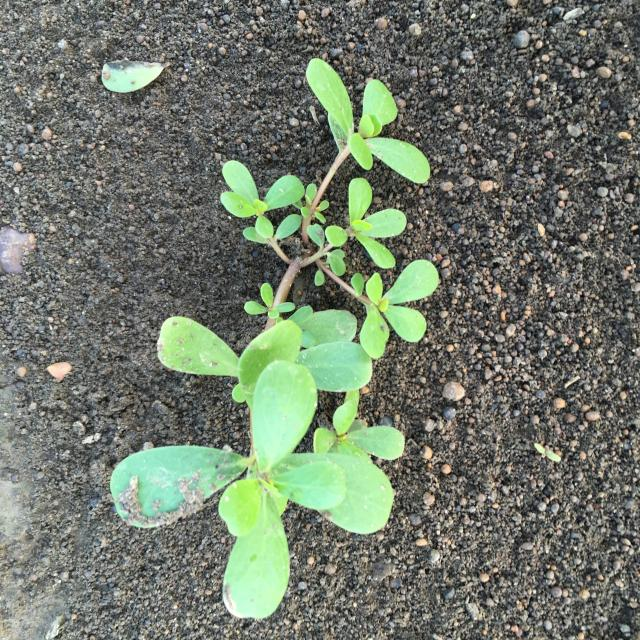Purslane: (110, 59, 439, 617)
